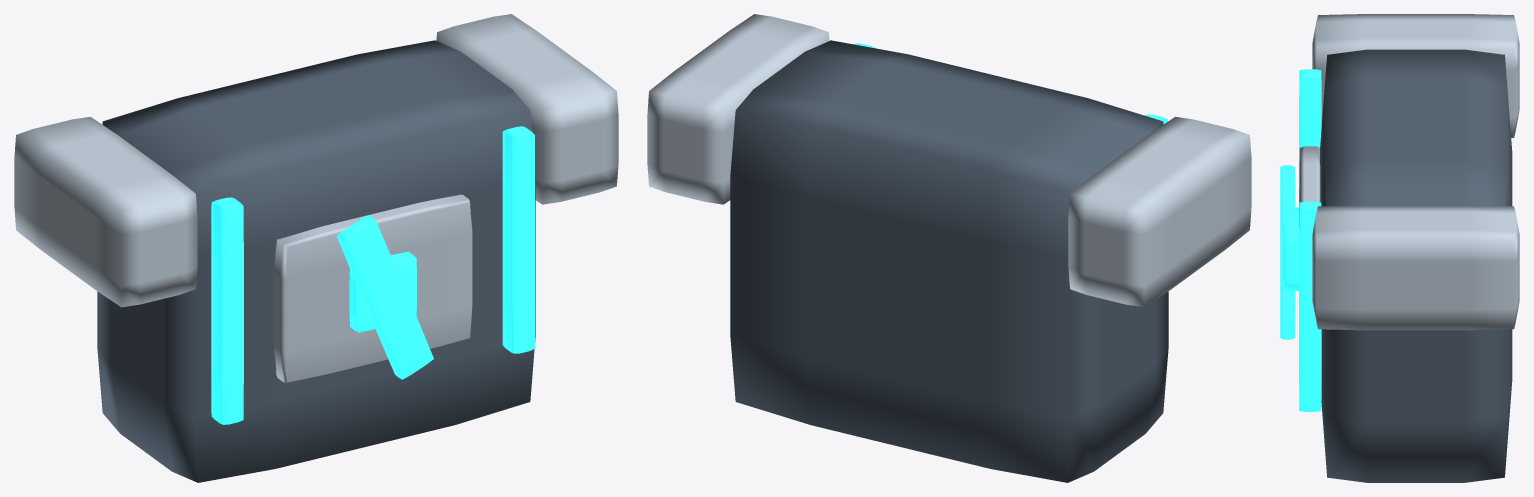
The model's file is thunder-warrior.glb.
The picture shows the model from 3 angles, left to right: view 1: azimuth 30°, elevation 25°; view 2: azimuth 150°, elevation 25°; view 3: azimuth 270°, elevation 25°; orthographic projection. The views are drawn at different scales.
Visible parts, largest first — view 1: Torso, ShoulderL, Panel, ShoulderR, StripeL, StripeR, Bolt, Core; view 2: Torso, ShoulderL, ShoulderR; view 3: Torso, ShoulderR, ShoulderL, StripeR, Bolt, StripeL, Panel, Core.
Boxes of the visible parts, left/top/right/bottom form: Torso: left=97, top=40, right=535, bottom=482; ShoulderL: left=14, top=116, right=197, bottom=307; Panel: left=273, top=194, right=472, bottom=382; ShoulderR: left=436, top=14, right=618, bottom=204; StripeL: left=211, top=197, right=243, bottom=424; StripeR: left=502, top=126, right=534, bottom=353; Bolt: left=336, top=215, right=433, bottom=379; Core: left=349, top=251, right=416, bottom=332; Torso: left=730, top=40, right=1168, bottom=482; ShoulderL: left=1068, top=116, right=1251, bottom=307; ShoulderR: left=647, top=14, right=829, bottom=204; Torso: left=1320, top=49, right=1512, bottom=482; ShoulderR: left=1312, top=205, right=1519, bottom=330; ShoulderL: left=1312, top=14, right=1519, bottom=137; StripeR: left=1299, top=201, right=1321, bottom=411; Bolt: left=1280, top=165, right=1295, bottom=339; StripeL: left=1299, top=69, right=1321, bottom=187; Panel: left=1299, top=146, right=1320, bottom=227; Core: left=1283, top=207, right=1298, bottom=290.
Bounding box in the file's own units: 2.85 × 1.72 × 1.27.
